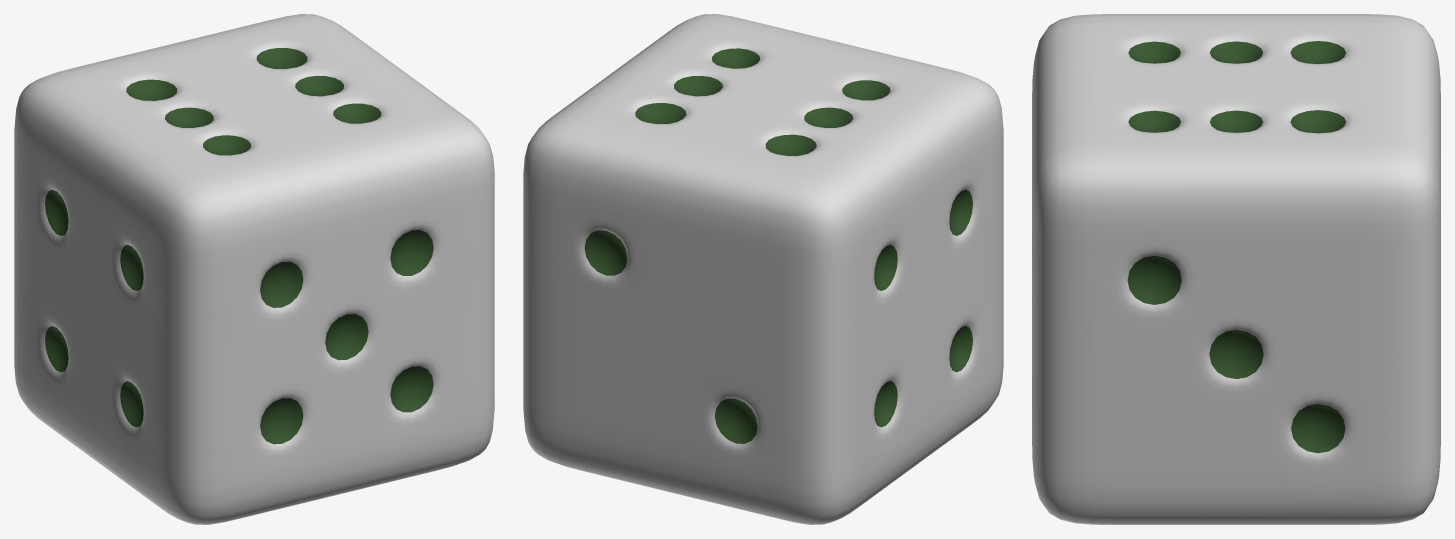
File: dice.glb
3 views of the same model, side by side, from view 1: azimuth 30°, elevation 25°; view 2: azimuth 150°, elevation 25°; view 3: azimuth 270°, elevation 25° (orthographic). The views are drawn at different scales.
Parts seen in each view (by area): view 1: Cube; view 2: Cube; view 3: Cube.
Part boxes in pixels (bbox=[...]): Cube: bbox=[14, 14, 494, 524]; Cube: bbox=[523, 14, 1003, 524]; Cube: bbox=[1032, 14, 1440, 524].
Size of the model in its own units: 2 by 2 by 2.
